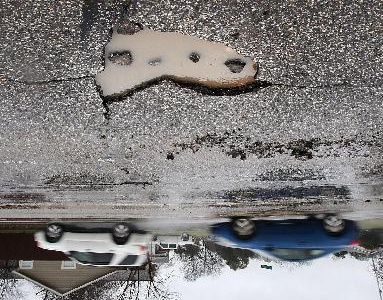pothole: (91, 23, 269, 104), (225, 183, 349, 202), (0, 202, 42, 211)
